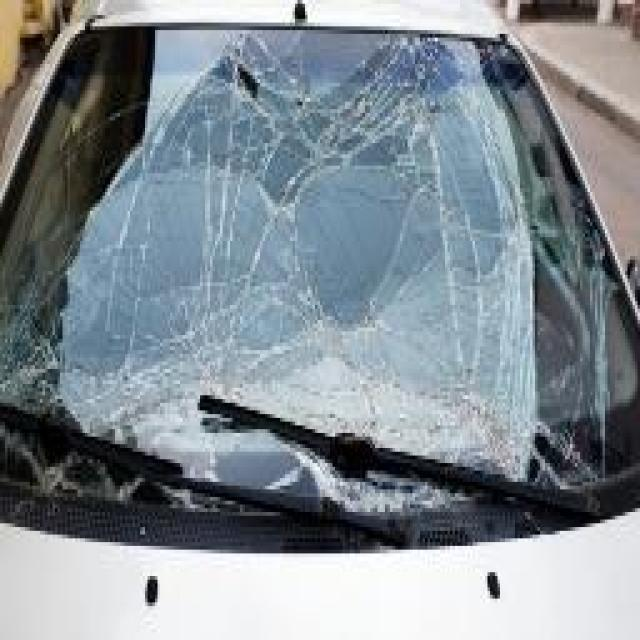Windshield: (2, 26, 640, 538)
